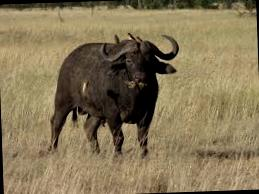Buffalo: (11, 20, 186, 184)
